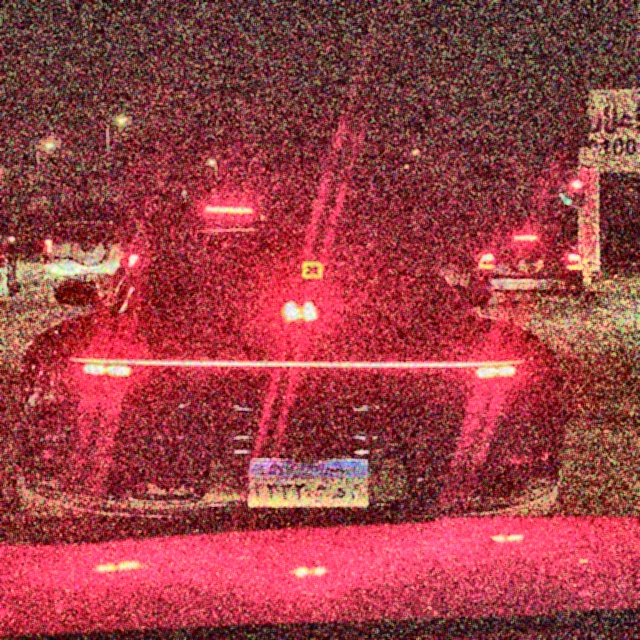License Plate: (247, 458, 370, 510)
